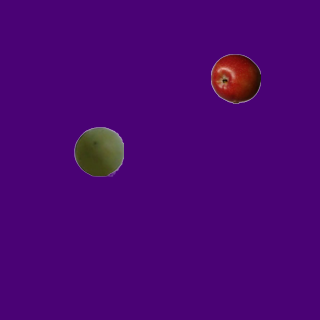Apple Braeburn: (210, 53, 260, 103)
Grape White 4: (73, 126, 123, 176)
